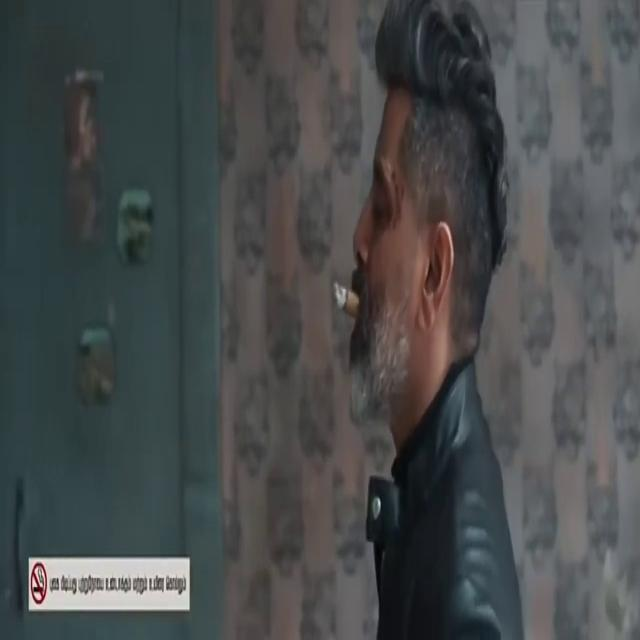smoking: (352, 223, 388, 376)
